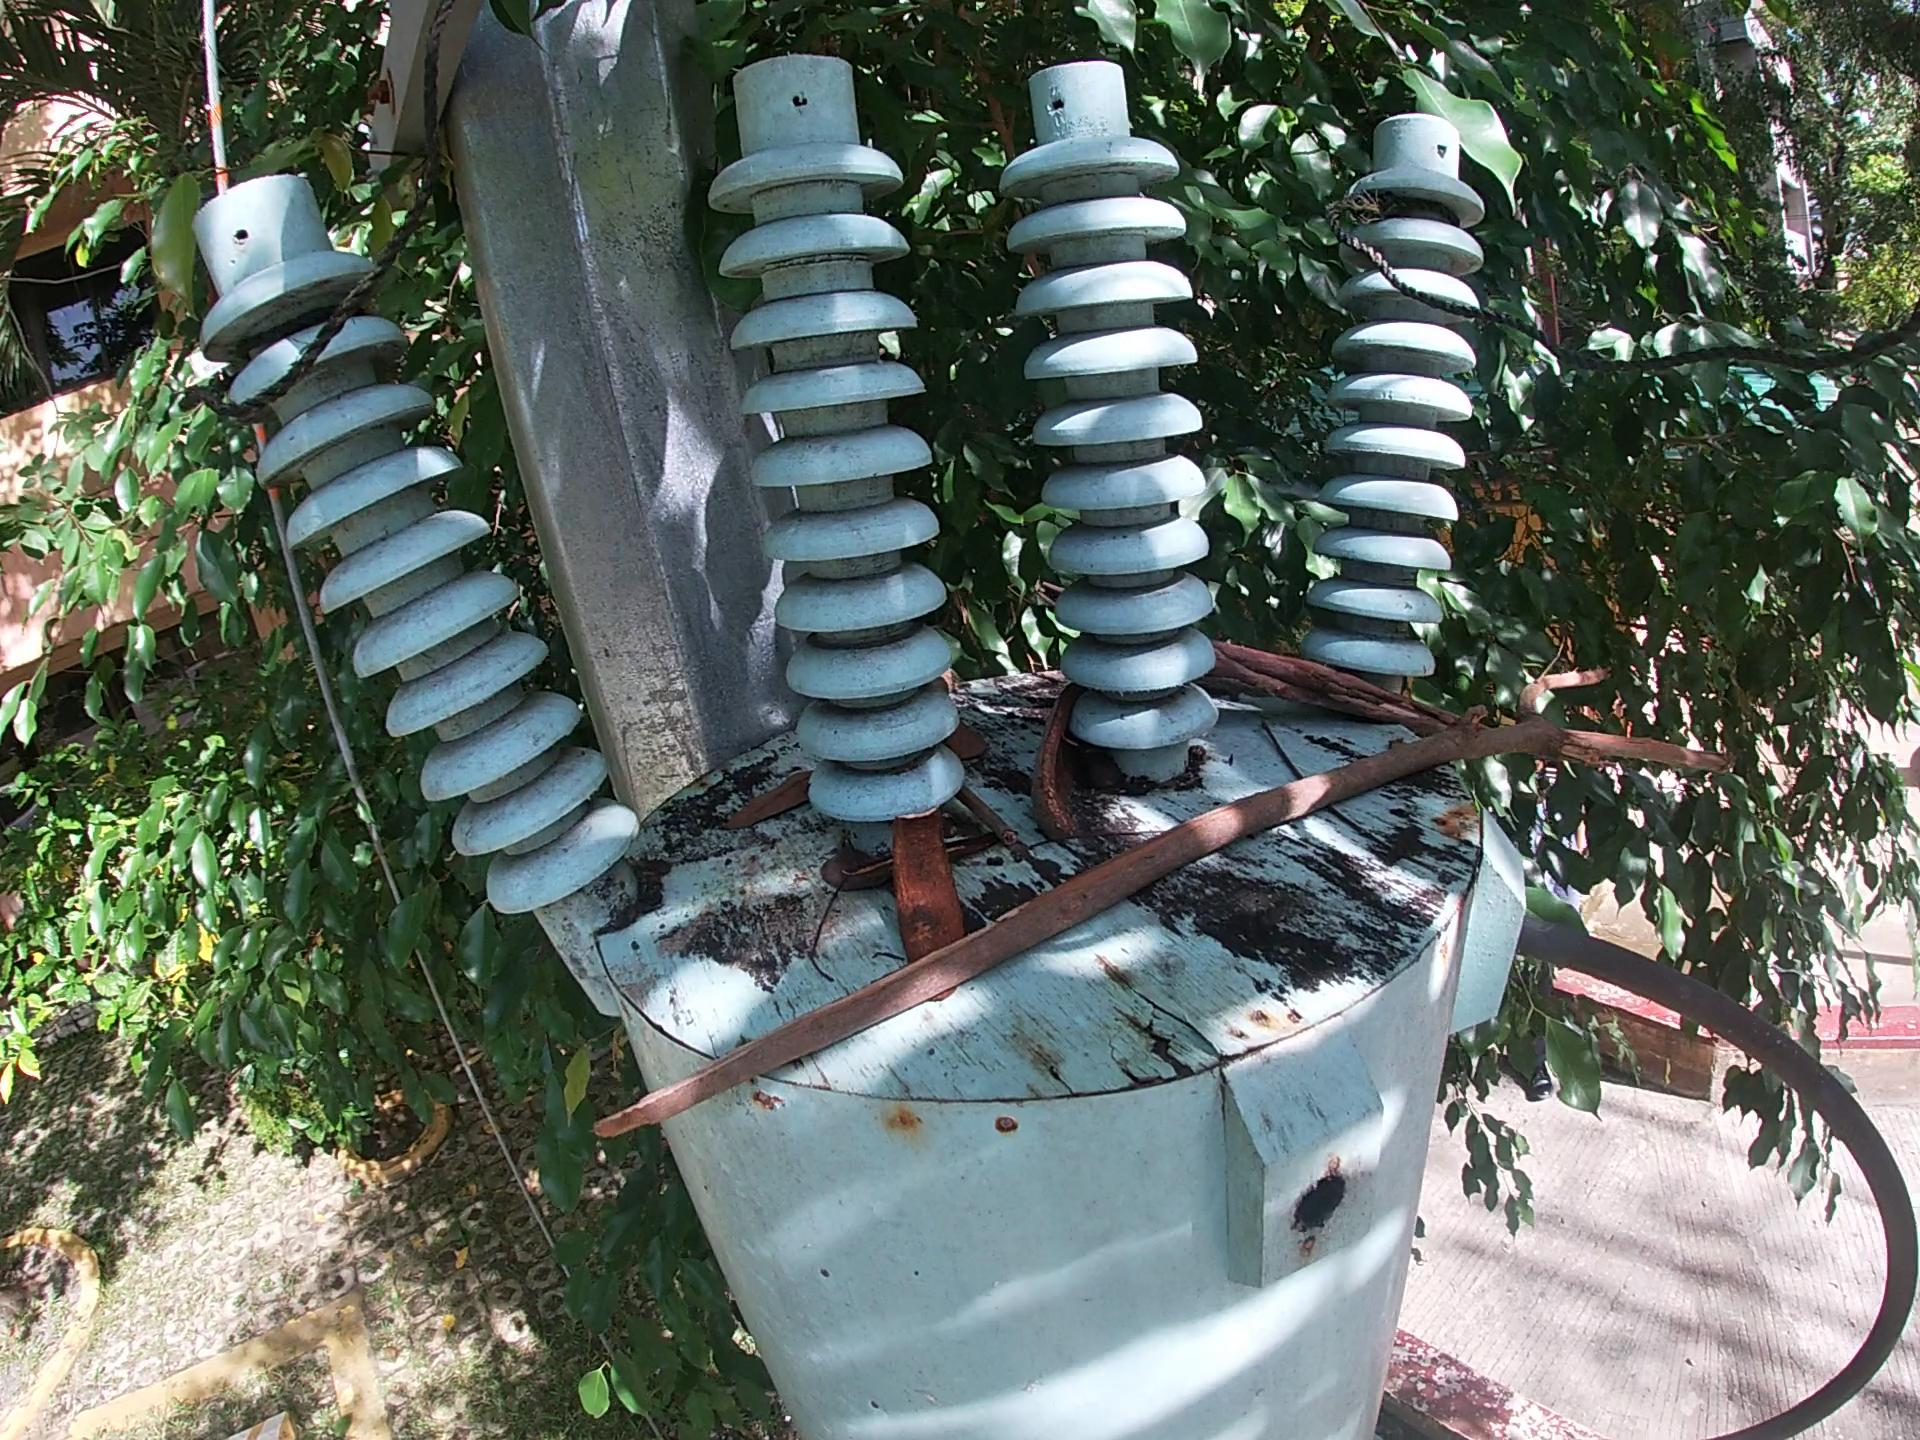leaf: (720, 767, 822, 844), (949, 722, 999, 770)
mahogany fruit: (884, 802, 972, 973), (1028, 675, 1092, 850)
tree branch: (581, 663, 1746, 1156), (1194, 632, 1584, 770), (958, 788, 1025, 850)
